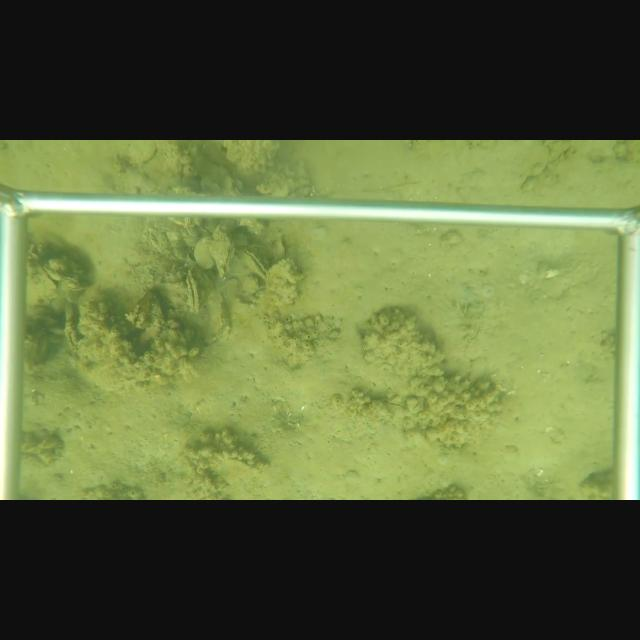Oyster-Closed: (205, 225, 236, 284), (204, 290, 233, 348), (155, 223, 172, 233), (185, 227, 199, 237), (184, 218, 192, 226)
Oyster-Open: (241, 244, 271, 285), (183, 268, 202, 318)
